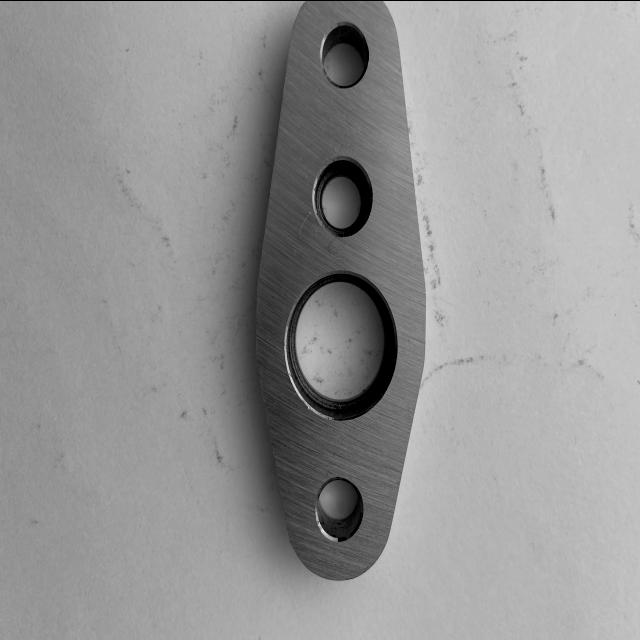chap: (299, 217, 307, 235), (308, 208, 312, 214)
